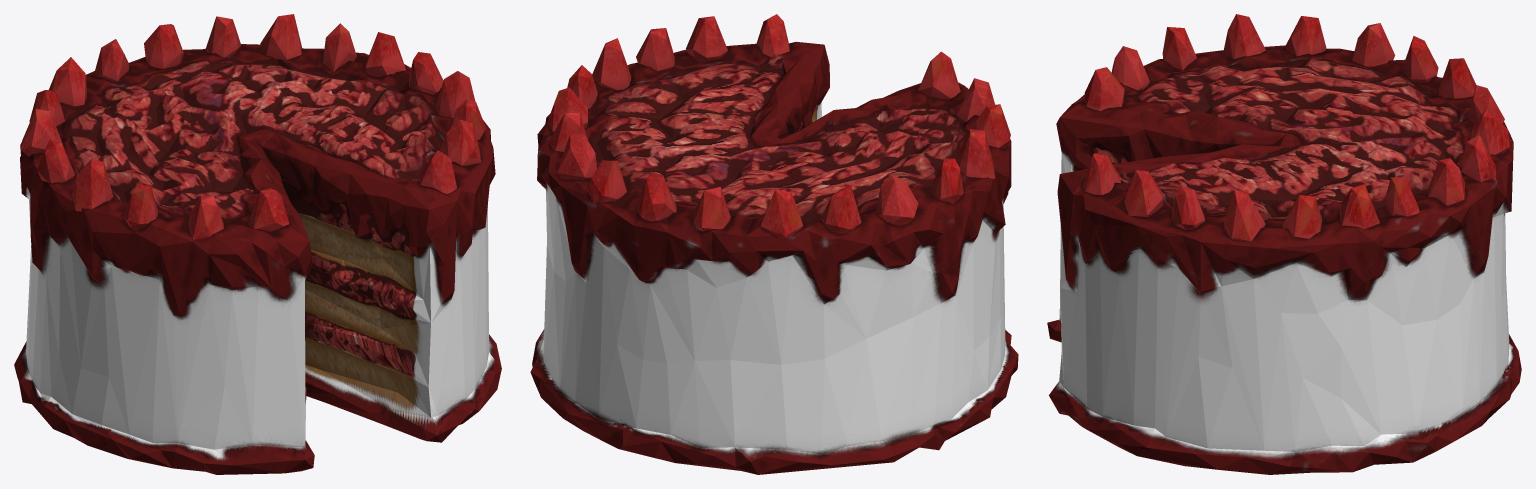
Rendered from SM_CakeA.fbx.
The picture shows the model from 3 angles, left to right: view 1: azimuth 30°, elevation 25°; view 2: azimuth 150°, elevation 25°; view 3: azimuth 270°, elevation 25°; orthographic projection.
Visible parts, largest first — view 1: SM_CakeA__1_; view 2: SM_CakeA__1_; view 3: SM_CakeA__1_.
Part boxes in pixels (x1,y1,x2,y2): SM_CakeA__1_: (14,14,501,474); SM_CakeA__1_: (530,14,1018,474); SM_CakeA__1_: (1047,14,1521,474).
Bounding box in the file's own units: 25.79 × 16.43 × 25.55.
